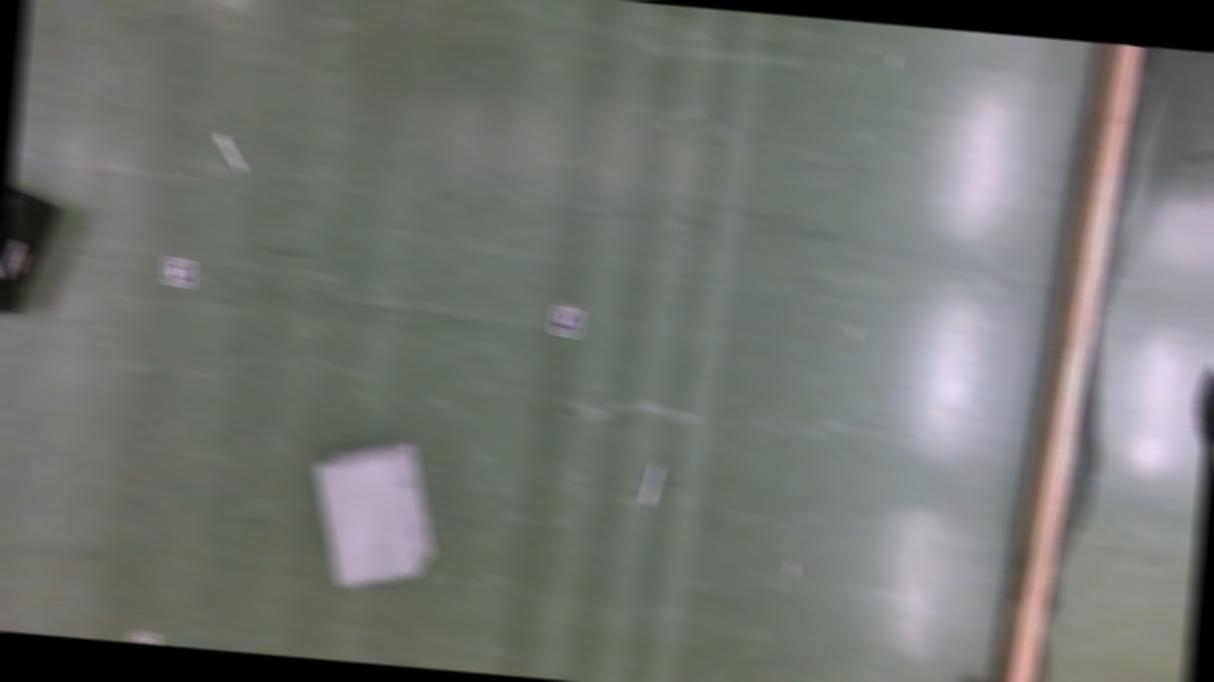probes: (216, 130, 245, 170), (642, 459, 663, 502)
rako: (304, 430, 445, 592), (0, 179, 62, 317)
